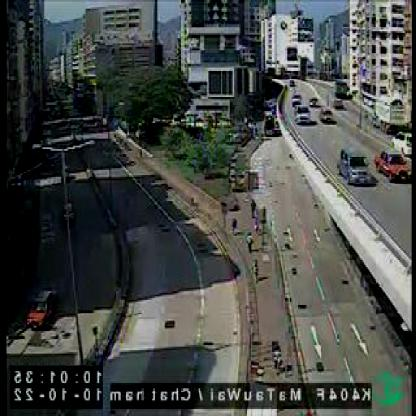Bus: (266, 110, 274, 136)
Car: (340, 145, 373, 186), (27, 288, 59, 329), (378, 146, 410, 180), (63, 204, 76, 223), (320, 110, 334, 124), (299, 110, 311, 124), (296, 104, 307, 118), (291, 93, 300, 104), (311, 96, 319, 105)
